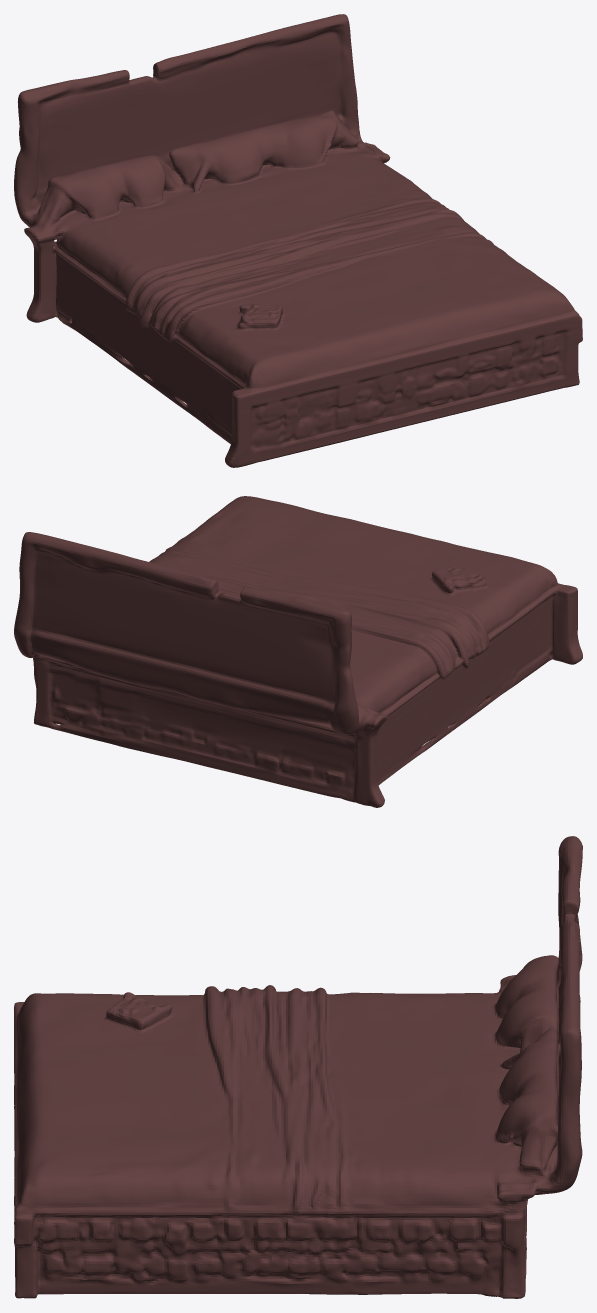
The picture shows the model from 3 angles, top to bottom: view 1: azimuth 30°, elevation 25°; view 2: azimuth 150°, elevation 25°; view 3: azimuth 270°, elevation 25°; orthographic projection. The views are drawn at different scales.
Visible parts, largest first — view 1: tmpz1jz8gihply; view 2: tmpz1jz8gihply; view 3: tmpz1jz8gihply.
Boxes of the visible parts, x1,y1,x2,y2 form: tmpz1jz8gihply: (14, 14, 582, 467); tmpz1jz8gihply: (14, 496, 582, 807); tmpz1jz8gihply: (14, 836, 582, 1298).
Bounding box in the file's own units: 1.74 × 0.9983 × 1.95.
